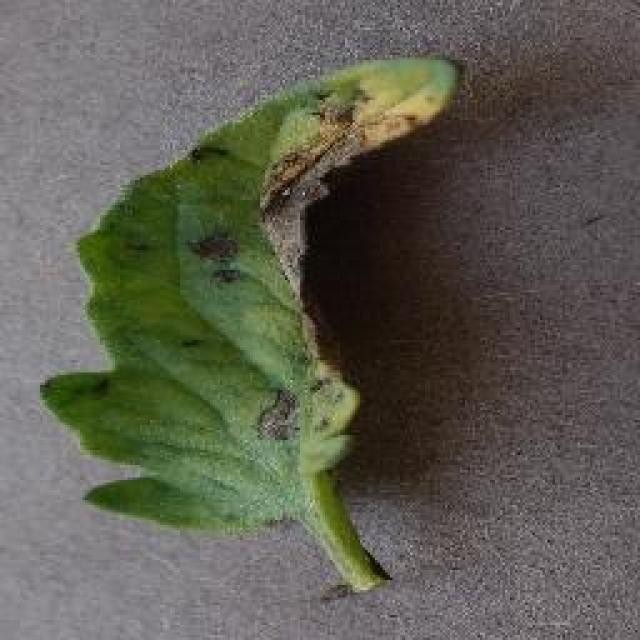Tomato Early blight leaf: (40, 48, 462, 537)
